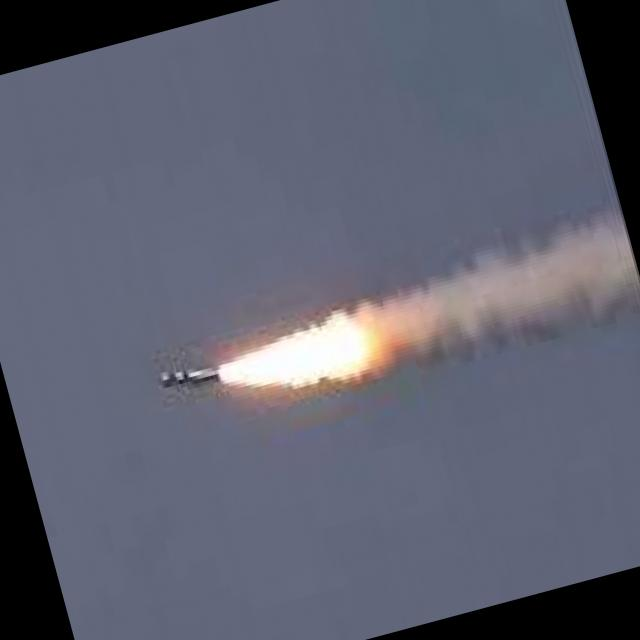rocket: (148, 326, 299, 418)
